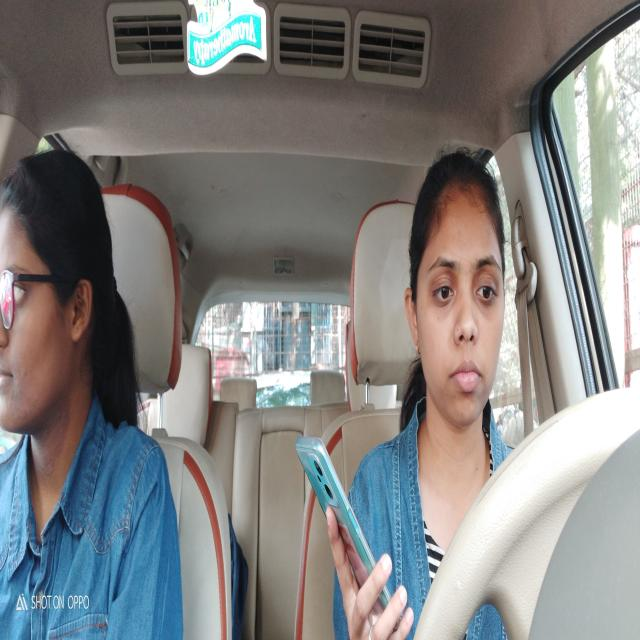mobile: (294, 431, 405, 631)
person: (0, 146, 116, 453), (404, 142, 511, 430)
